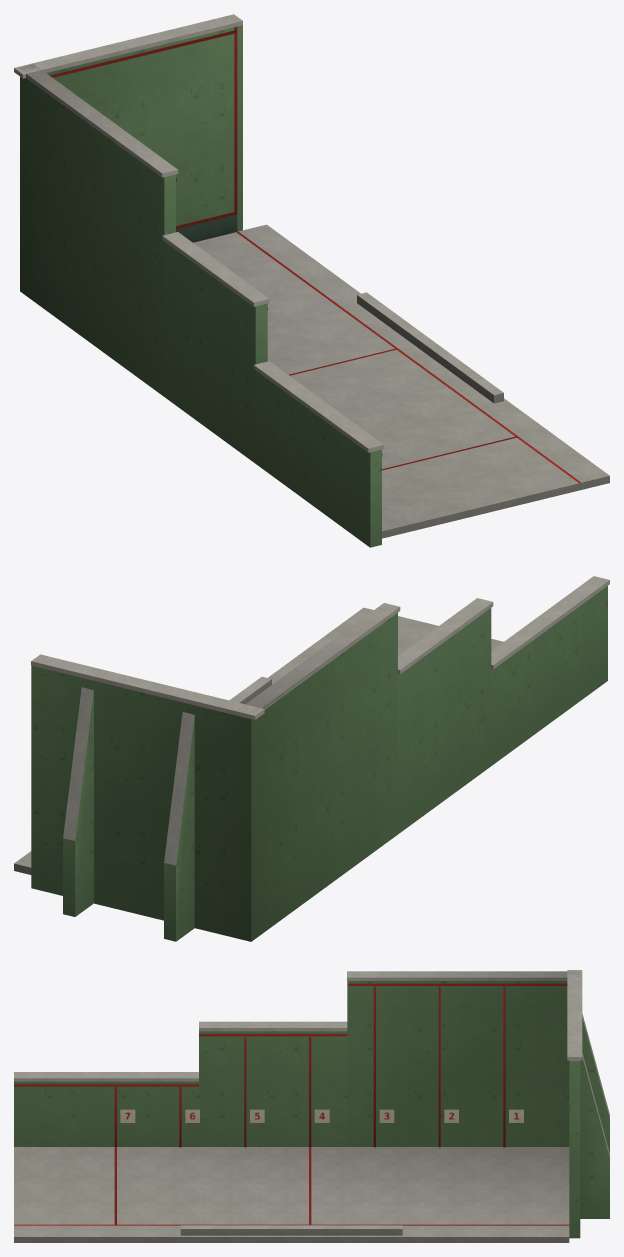
File: fronton.glb
3 views of the same model, one above another, from view 1: azimuth 30°, elevation 25°; view 2: azimuth 150°, elevation 25°; view 3: azimuth 270°, elevation 25° (orthographic). The views are drawn at different scales.
Parts seen in each view (by area): view 1: fronton; view 2: fronton; view 3: fronton.
Part boxes in pixels (x1=…): fronton: x1=14, y1=14, x2=609, y2=547; fronton: x1=14, y1=576, x2=609, y2=941; fronton: x1=14, y1=970, x2=609, y2=1242.
Bounding box in the file's own units: 12.35 × 10.8 × 32.2.
Materials: 5 (5 with a texture image).
